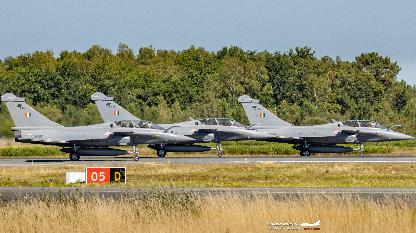RQ4: (0, 93, 196, 160), (90, 92, 276, 157), (237, 95, 415, 156)
